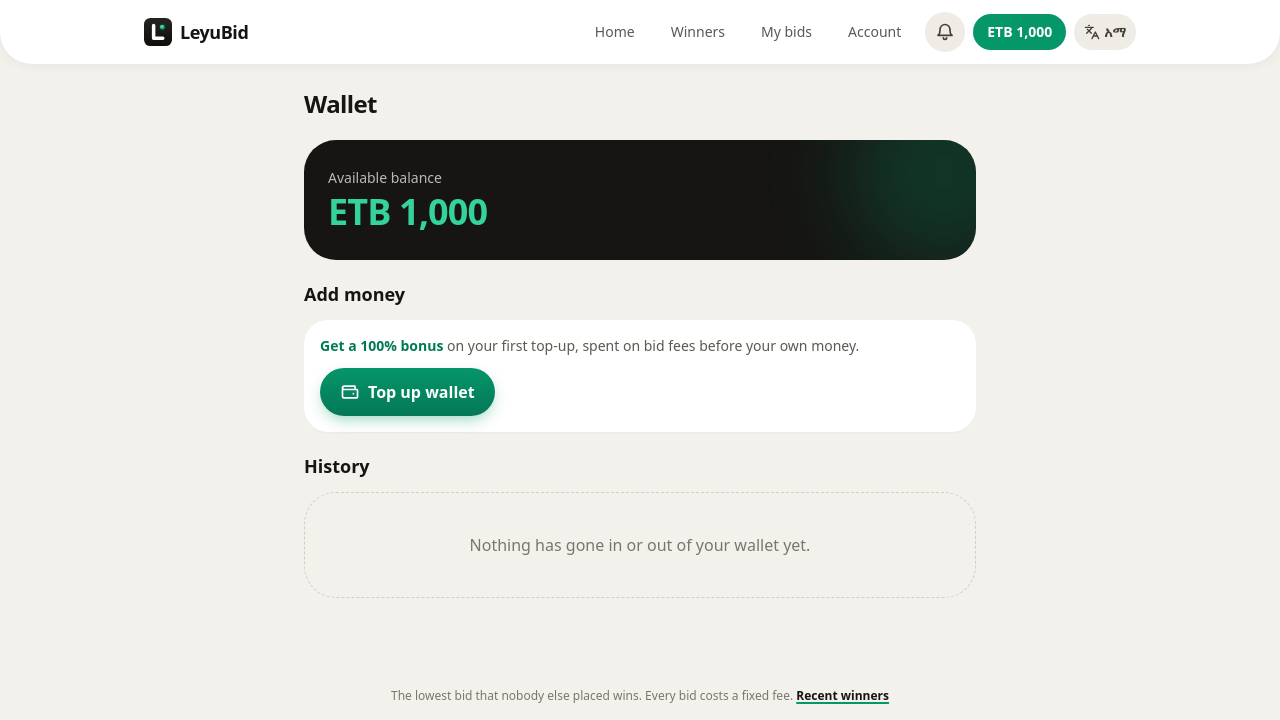
Scenario: adding money on the wallet page › does not ask the server for ten
Step 1. Click the button "Top up wallet" → (407, 392), box [320, 368, 495, 416]
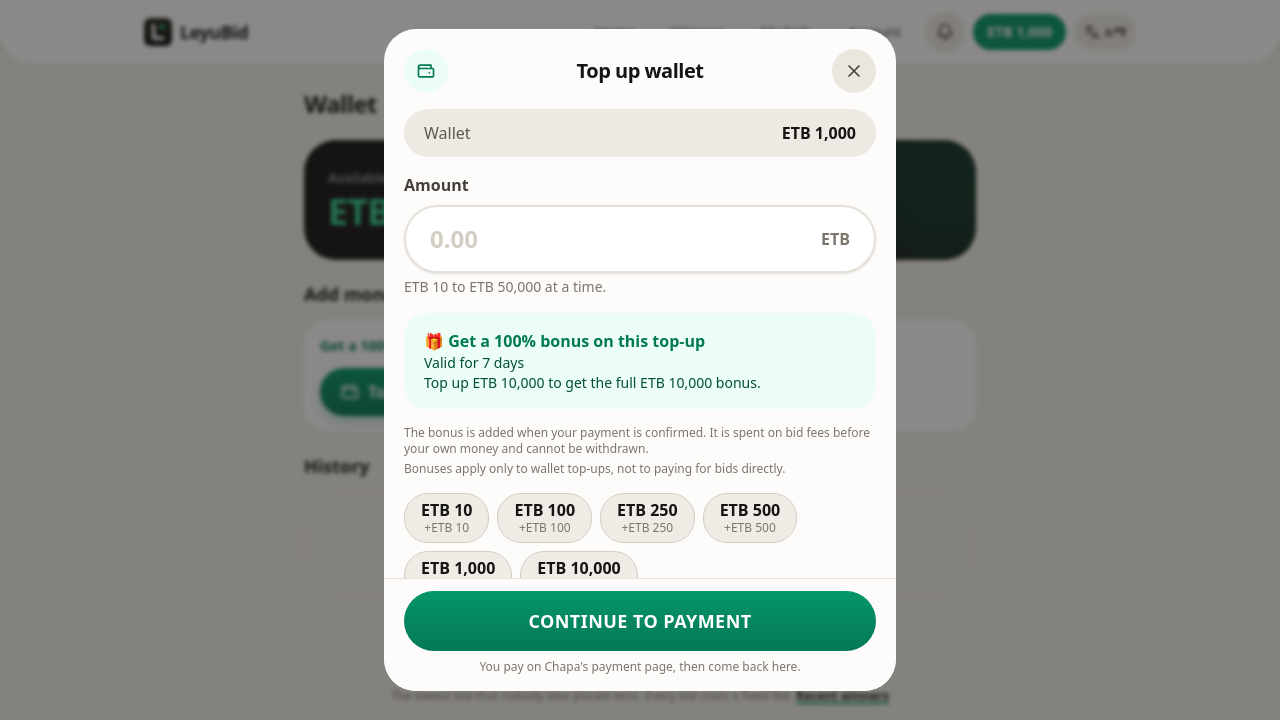
Step 2. Type "ten" into the field labelled "Amount" → (622, 239), box [430, 207, 813, 271]
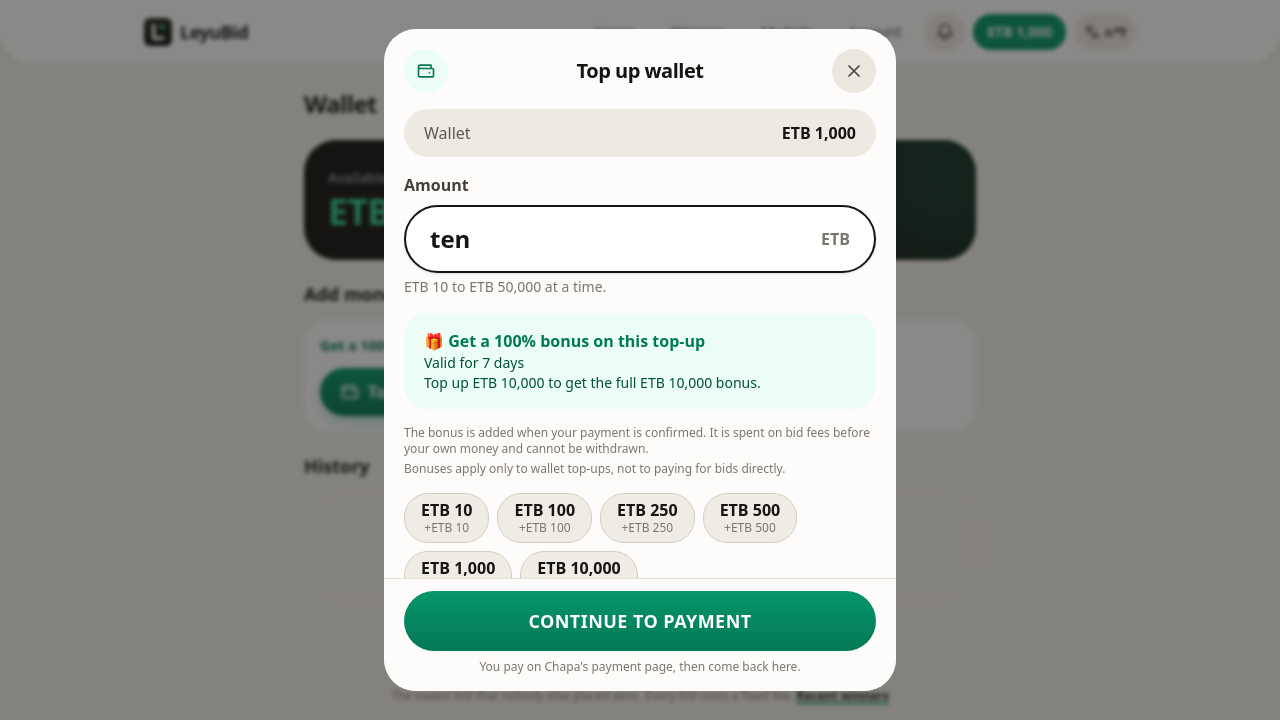
Step 3. Click the button "Continue to payment" → (640, 621), box [404, 591, 876, 651]
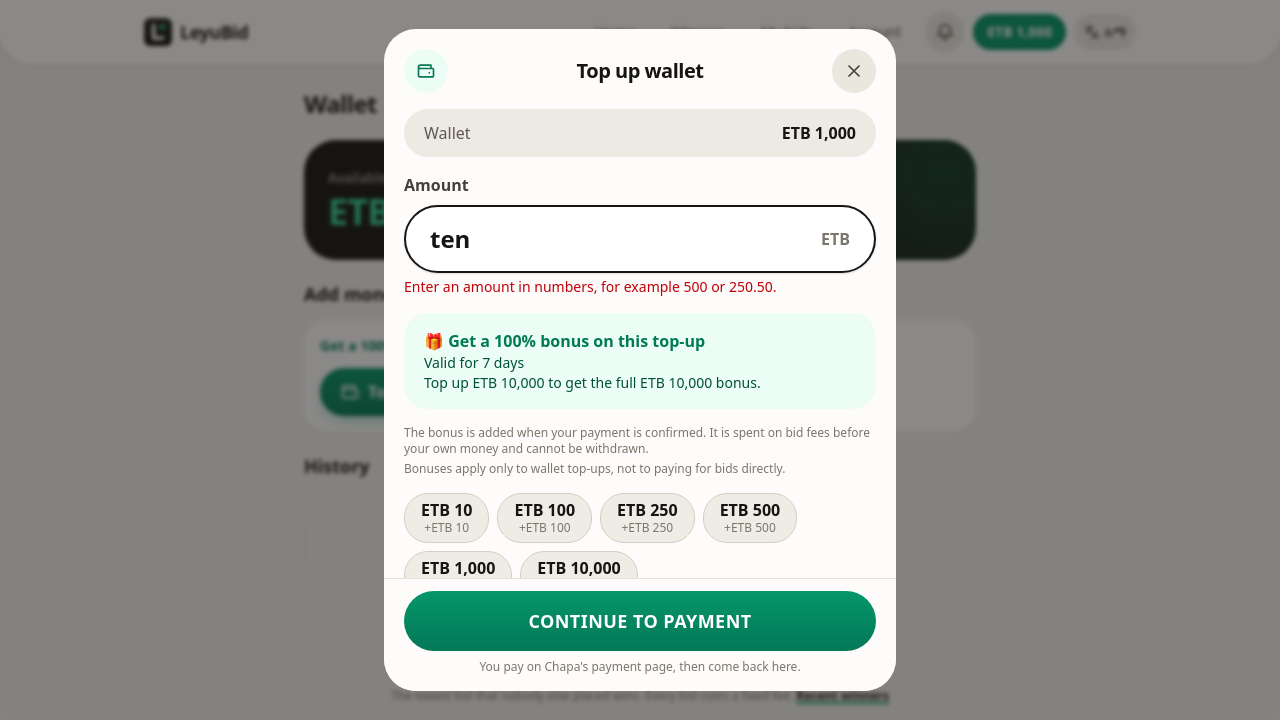
Result: the text "Enter an amount in numbers, for example 500 or 250.50." is shown at [404, 277, 777, 296]
